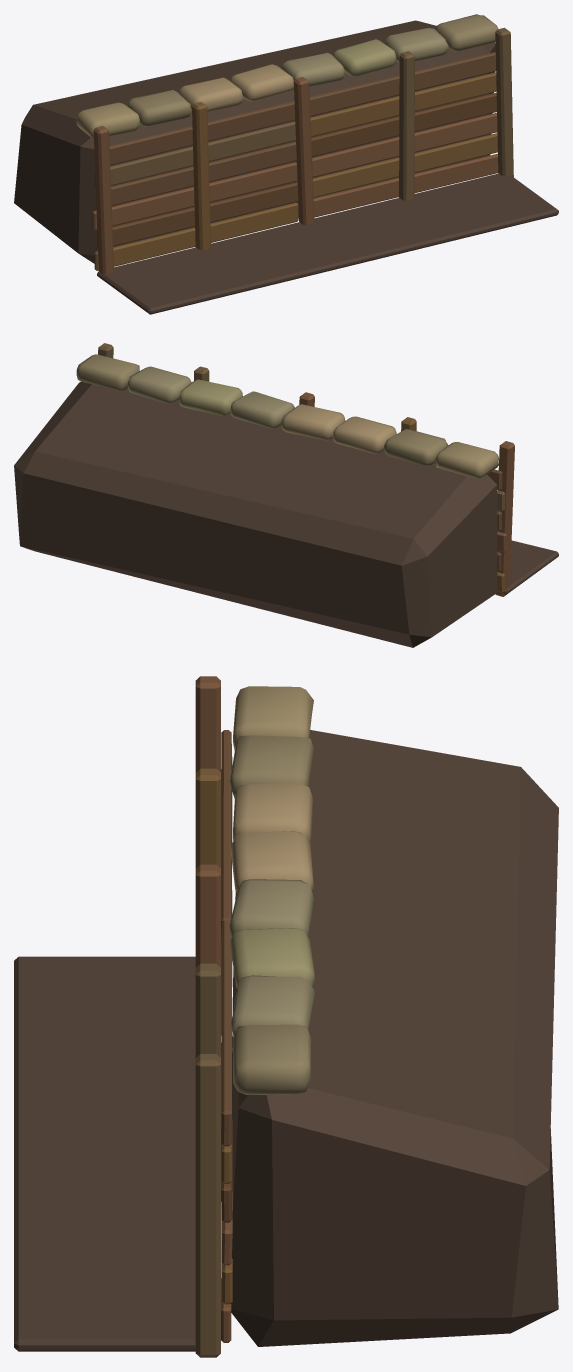
The model's file is trench_segment.glb.
3 views of the same model, one above another, from view 1: azimuth 30°, elevation 25°; view 2: azimuth 150°, elevation 25°; view 3: azimuth 270°, elevation 25° (orthographic). The views are drawn at different scales.
Visible parts, largest first — view 1: trench_segment; view 2: trench_segment; view 3: trench_segment.
Part boxes in pixels (x1,y1,x2,y2): trench_segment: (14,14,558,314); trench_segment: (14,343,558,647); trench_segment: (14,676,558,1357).
Bounding box in the file's own units: 4.07 × 1.42 × 2.38.
